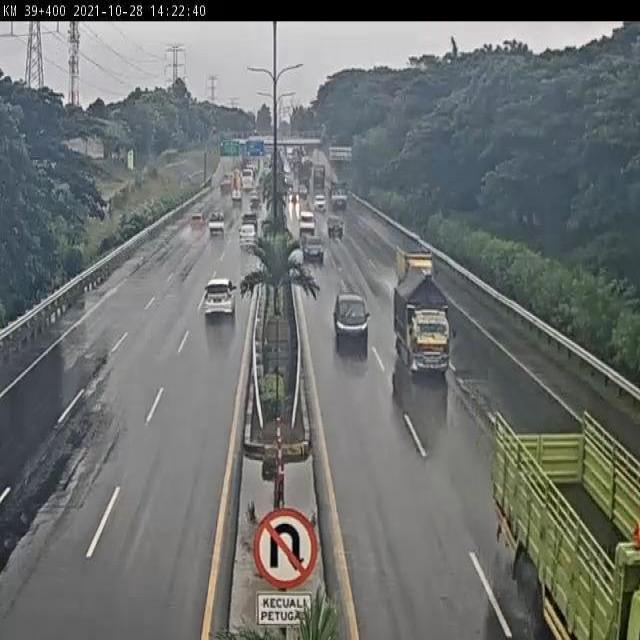car: (332, 291, 370, 344), (203, 277, 237, 320), (302, 233, 325, 264), (298, 210, 317, 238), (236, 223, 257, 245), (207, 209, 226, 232), (241, 210, 260, 230), (326, 215, 344, 236), (188, 212, 205, 232)
truck-l-: (494, 406, 640, 640)
truck-m-: (393, 271, 454, 377), (394, 243, 437, 284)
